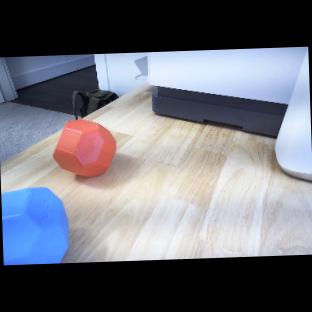V5_BLUE: (1, 187, 71, 266)
V5_RED: (51, 117, 118, 180)
